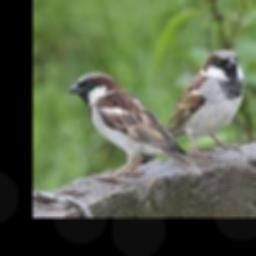Sparrow: (68, 71, 204, 178), (138, 49, 244, 163)
